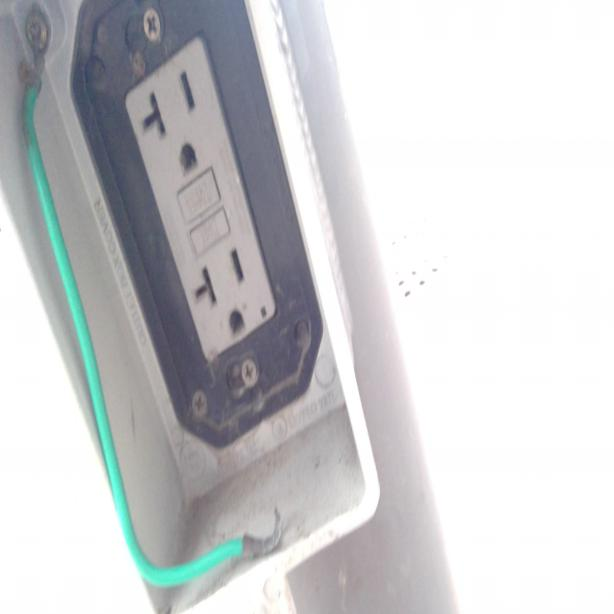typeb: (136, 73, 207, 175), (189, 249, 256, 343)
